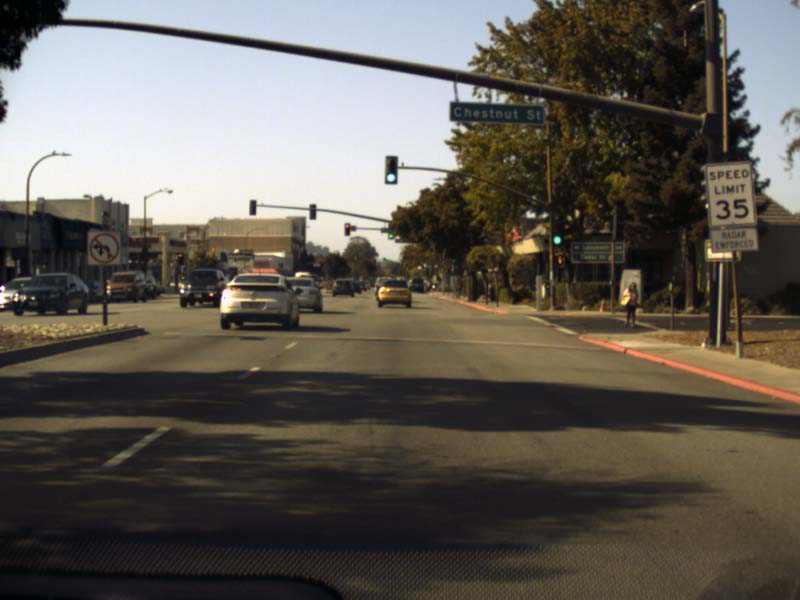Green: (384, 155, 397, 184), (551, 228, 563, 247), (388, 229, 393, 239)
Red: (344, 223, 349, 236)
